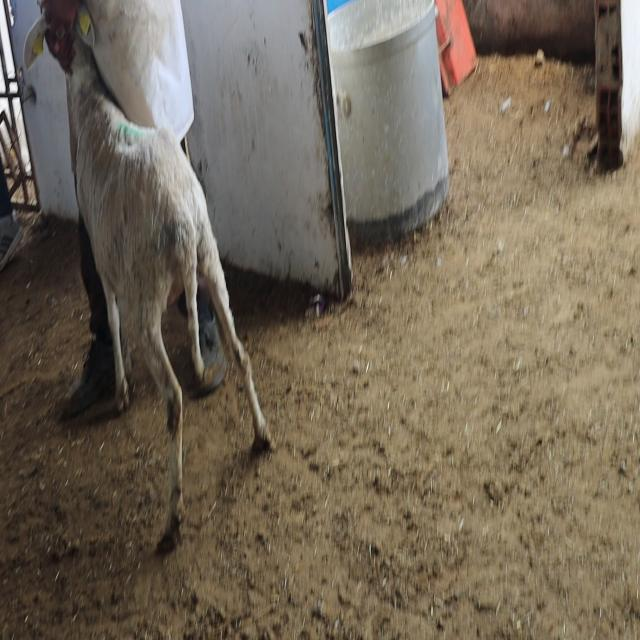Score_1: (66, 39, 271, 548)
